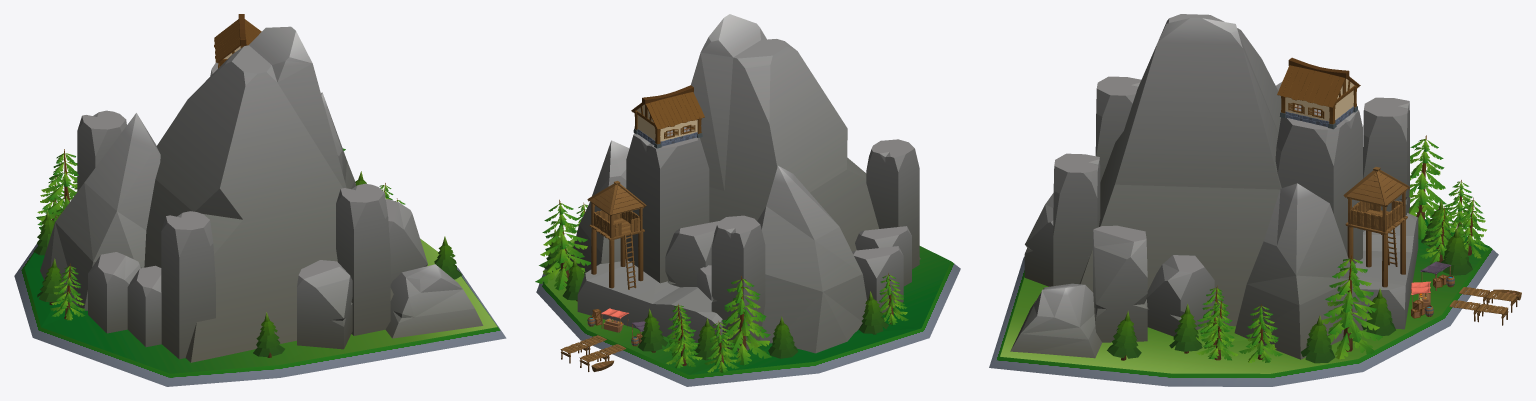
File: island_mountain.fbx
3 renders of one model, left to right at view 1: azimuth 30°, elevation 25°; view 2: azimuth 150°, elevation 25°; view 3: azimuth 270°, elevation 25°, orthographic. The views are drawn at different scales.
Parts seen in each view (by area): view 1: ModularWood_02.008; view 2: ModularWood_02.008; view 3: ModularWood_02.008.
Boxes of the visible parts, bbox=[...] form: ModularWood_02.008: bbox=[14, 14, 506, 386]; ModularWood_02.008: bbox=[535, 14, 960, 386]; ModularWood_02.008: bbox=[989, 14, 1521, 386].
Size of the model in its own units: 3945 by 2604 by 4316.
